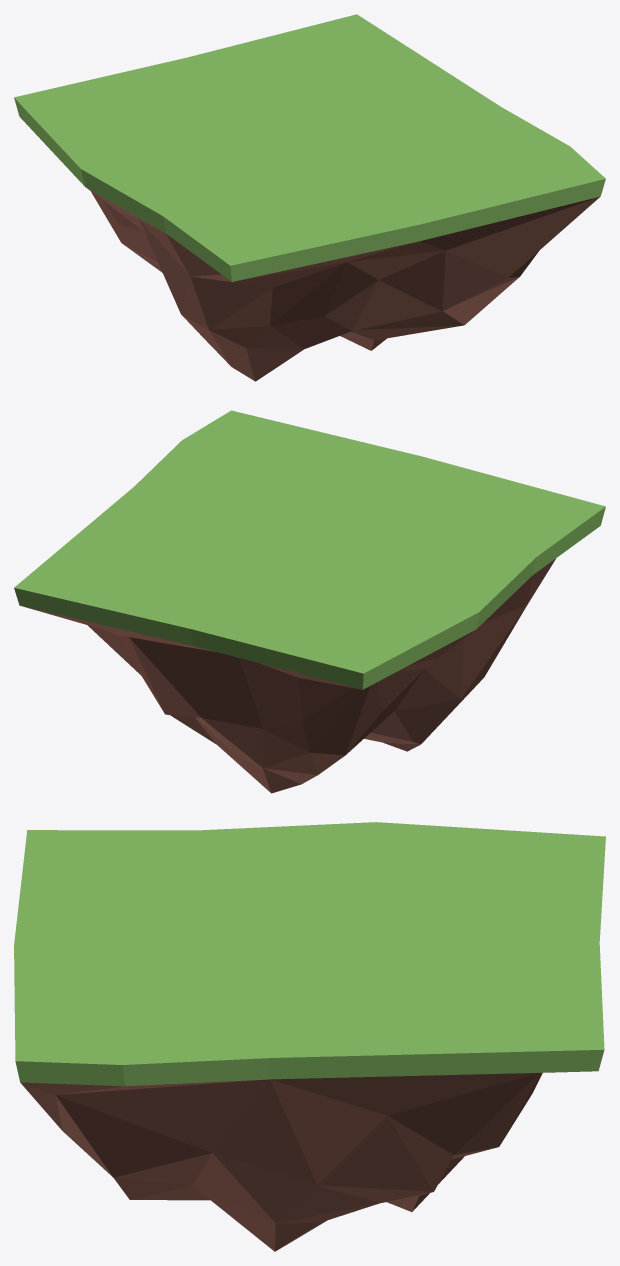
Rendered from Island5.fbx.
3 renders of one model, top to bottom at view 1: azimuth 30°, elevation 25°; view 2: azimuth 150°, elevation 25°; view 3: azimuth 270°, elevation 25°, orthographic. The views are drawn at different scales.
Visible parts, largest first — view 1: Island5; view 2: Island5; view 3: Island5.
Part boxes in pixels (box(x1,y1,x2,y2)): Island5: box(14, 14, 605, 381); Island5: box(14, 410, 605, 793); Island5: box(14, 822, 605, 1251).
Bounding box in the file's own units: 3.95 × 2.07 × 4.06.
